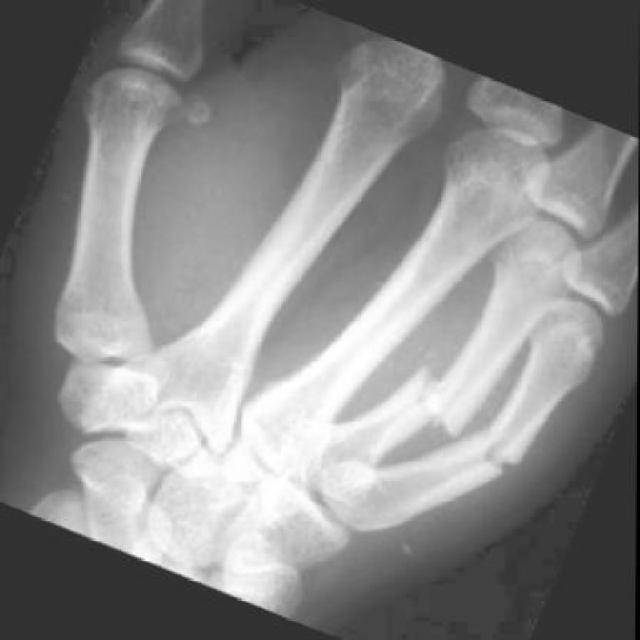Fracture: (376, 328, 495, 448), (446, 403, 553, 503)
